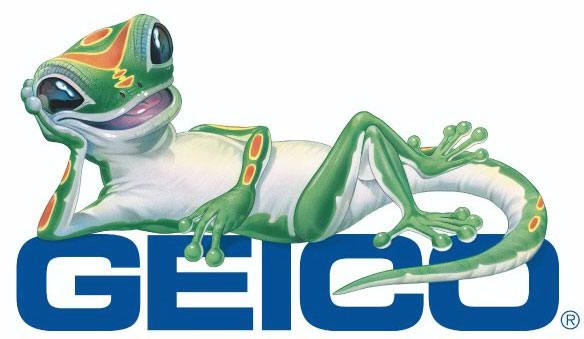geico: (15, 235, 569, 337)
